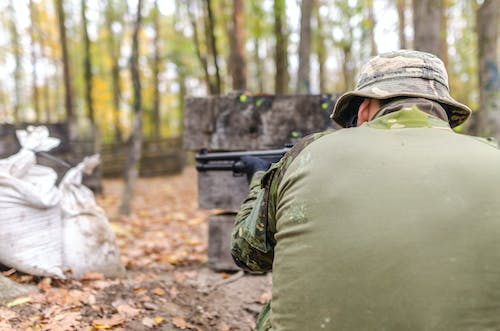gun: (194, 141, 295, 172)
